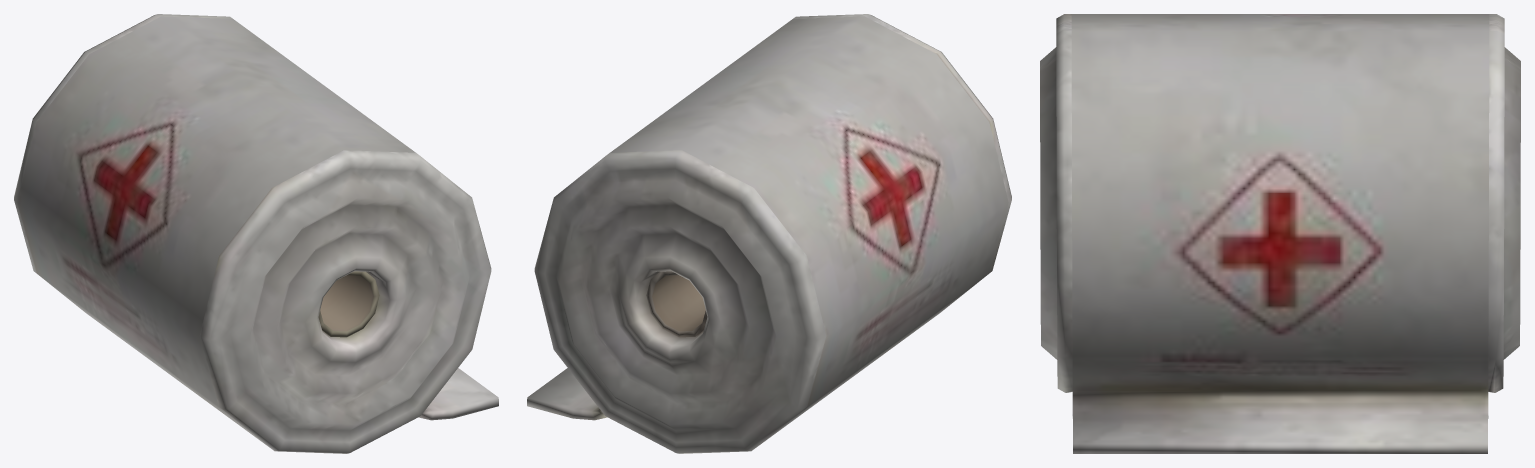
File: bandage.glb
3 views of the same model, side by side, from view 1: azimuth 30°, elevation 25°; view 2: azimuth 150°, elevation 25°; view 3: azimuth 270°, elevation 25° (orthographic). The views are drawn at different scales.
Parts seen in each view (by area): view 1: Cylinder.002; view 2: Cylinder.002; view 3: Cylinder.002.
Boxes of the visible parts, <box> form: Cylinder.002: <box>14,14,498,453</box>; Cylinder.002: <box>527,14,1011,453</box>; Cylinder.002: <box>1040,14,1520,453</box>.
Bounding box in the file's own units: 1.64 × 1.58 × 2.
Materials: 1 (1 with a texture image).
